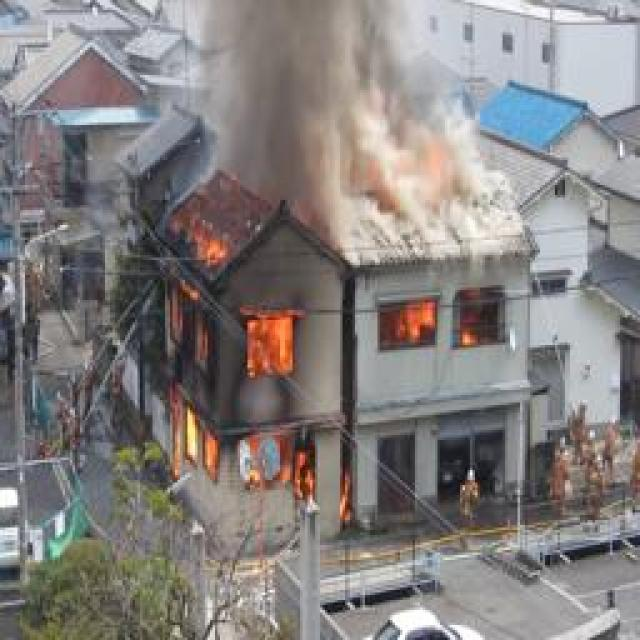Fire: (166, 198, 335, 522), (374, 292, 502, 346)
